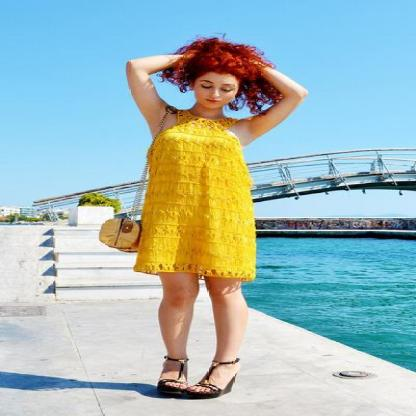bag: (99, 213, 141, 249)
dress: (128, 116, 264, 281)
shoe: (156, 358, 234, 398)
